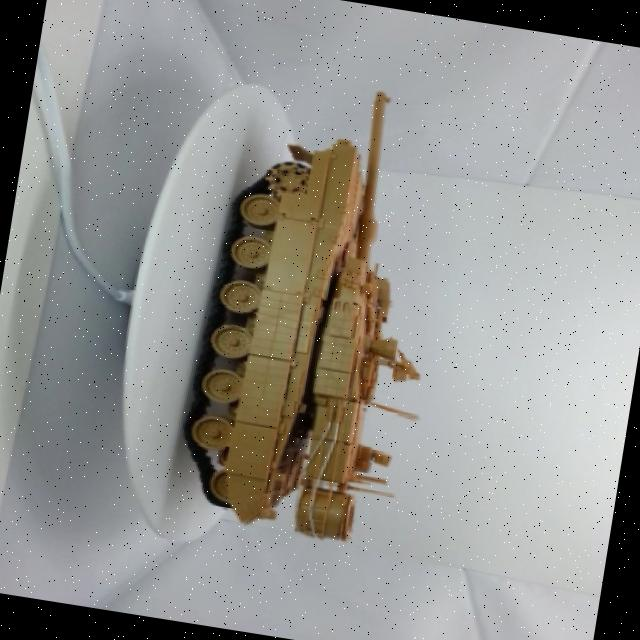korea tank: (154, 53, 486, 560)
